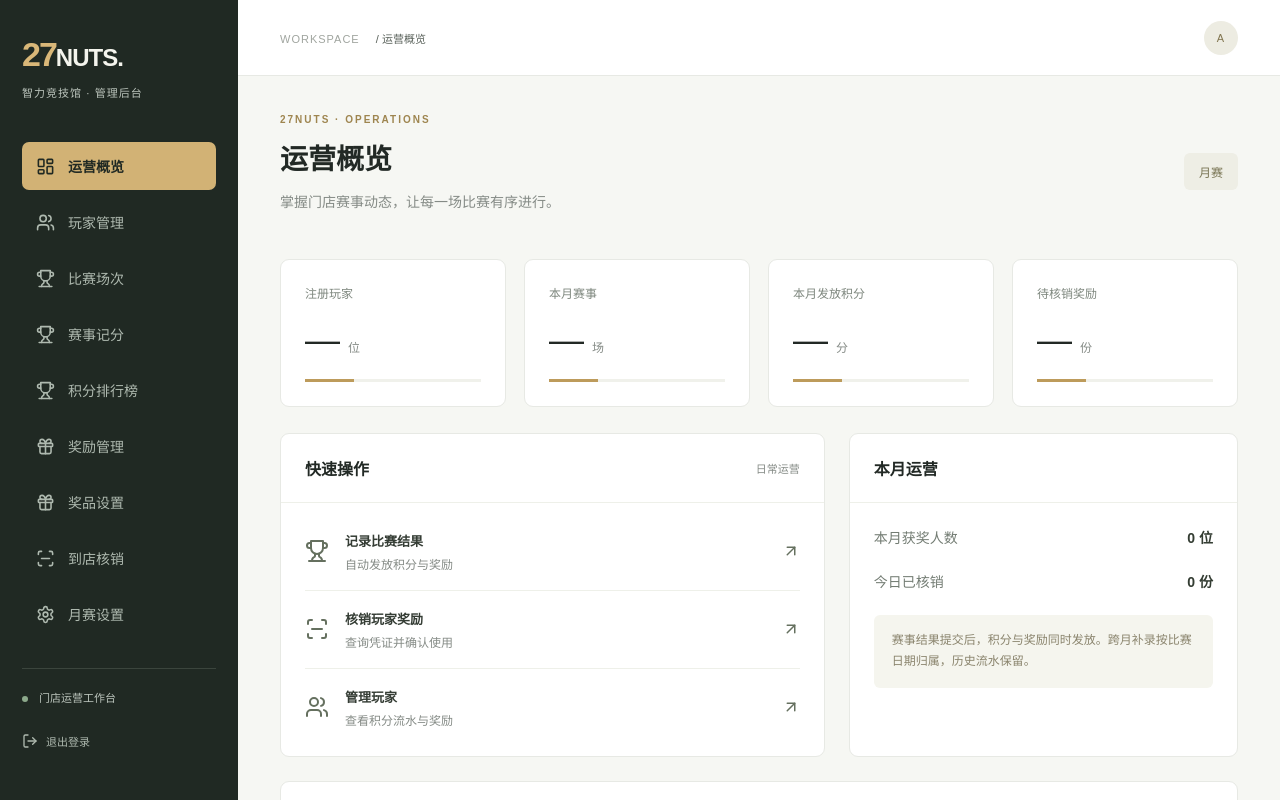
玩家详情给当前玩家发放多份奖励，成功后关闭弹窗且不调整积分
Click the button "玩家管理" at (119,222), box [22,198,216,246]
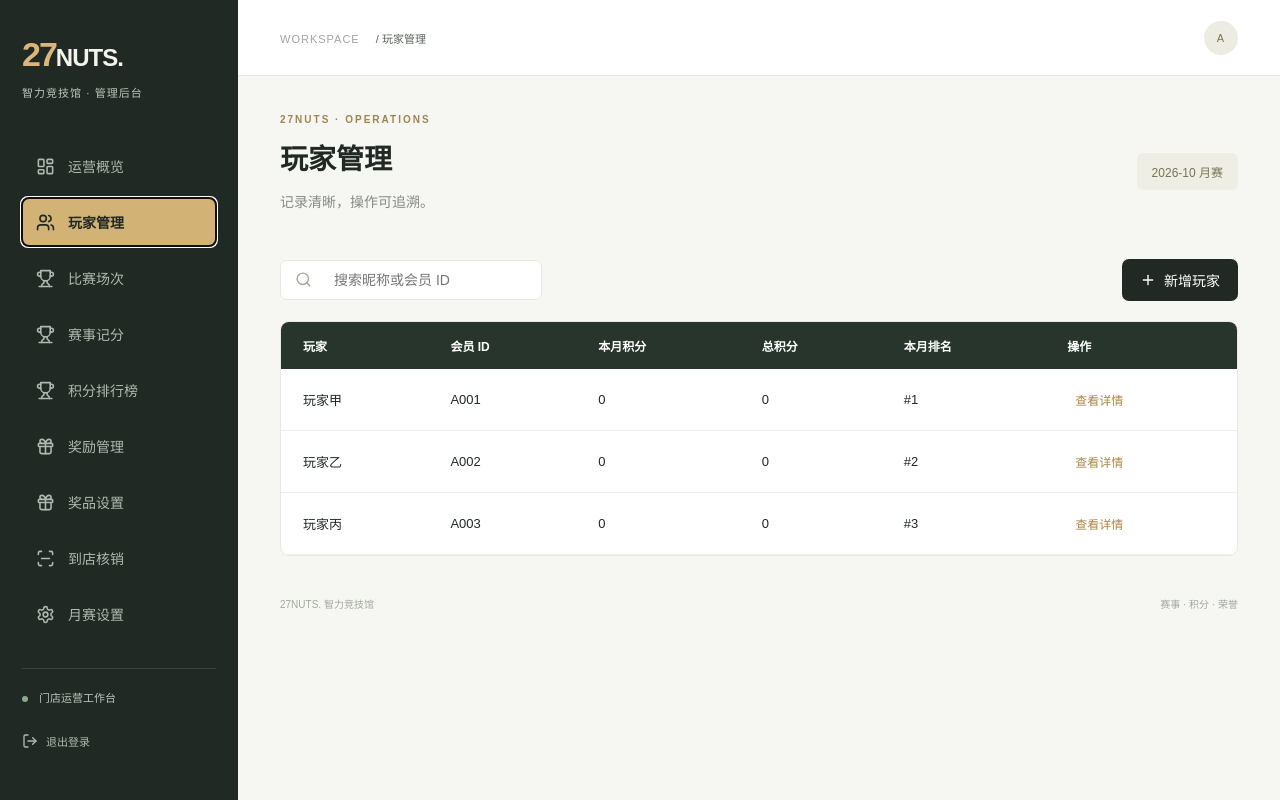
Click the button "查看详情" in the row of "玩家甲" at (1099,399), box [1067,386,1131,413]
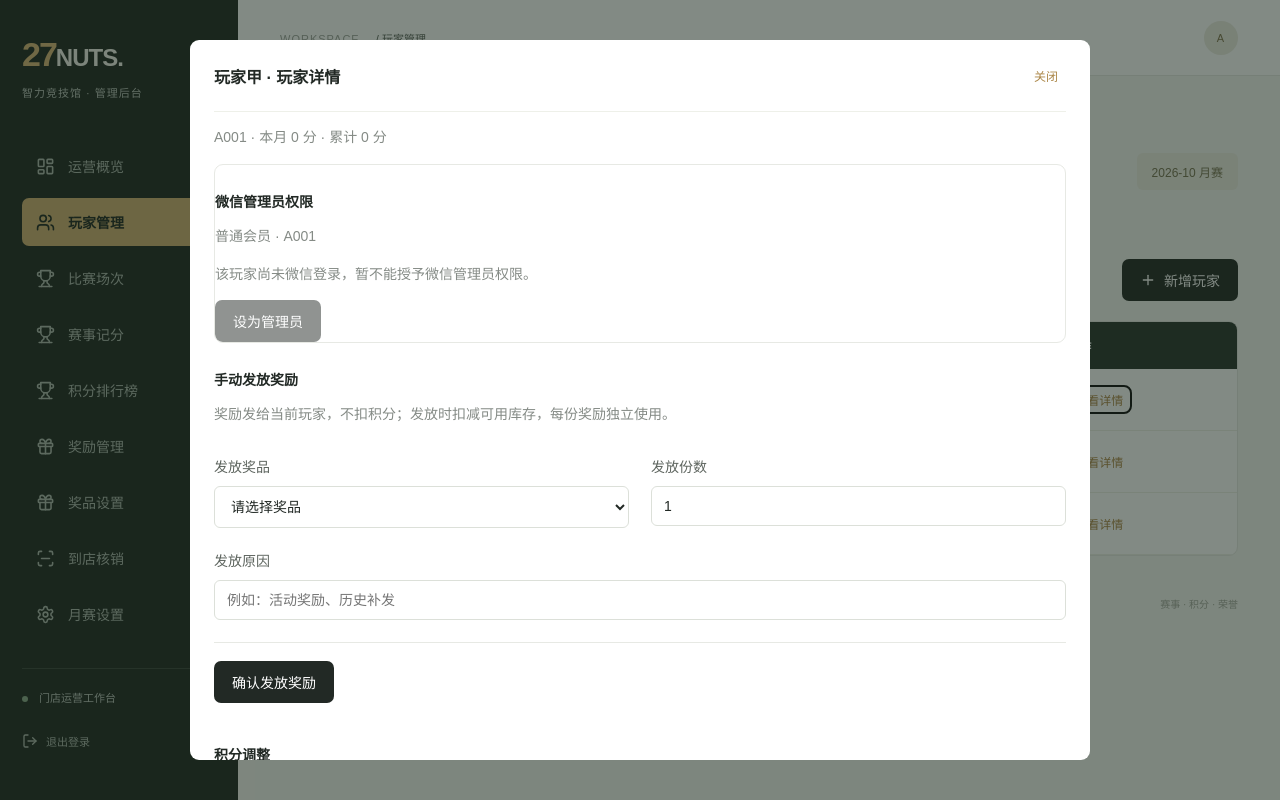
Select "GTO赛事门票" in the dropdown labelled "发放奖品" at (422,507), box [214,486,629,528]
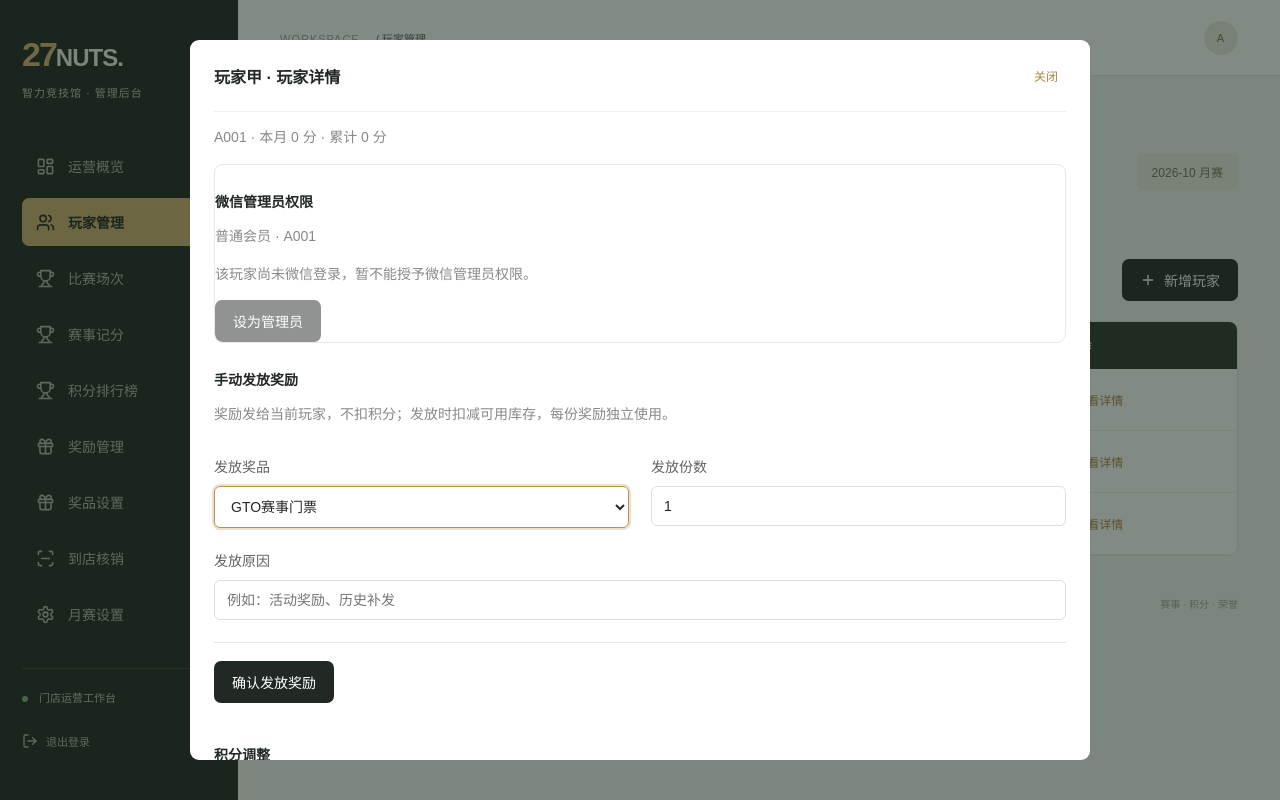
Replace the text in the number field labelled "发放份数" with "2" at (858,506), box [651,486,1066,526]
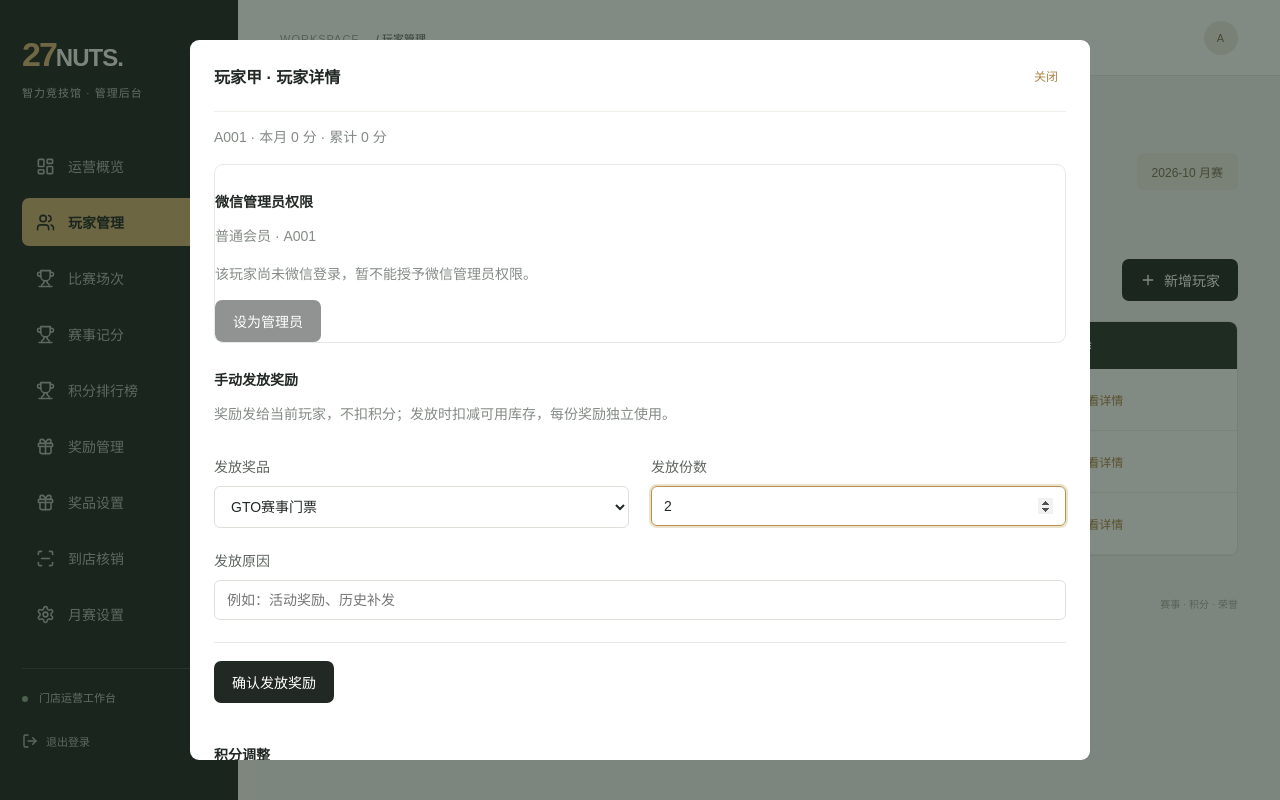
Type " 活动补发 " into the field labelled "发放原因" at (640,600), box [214,580,1066,620]
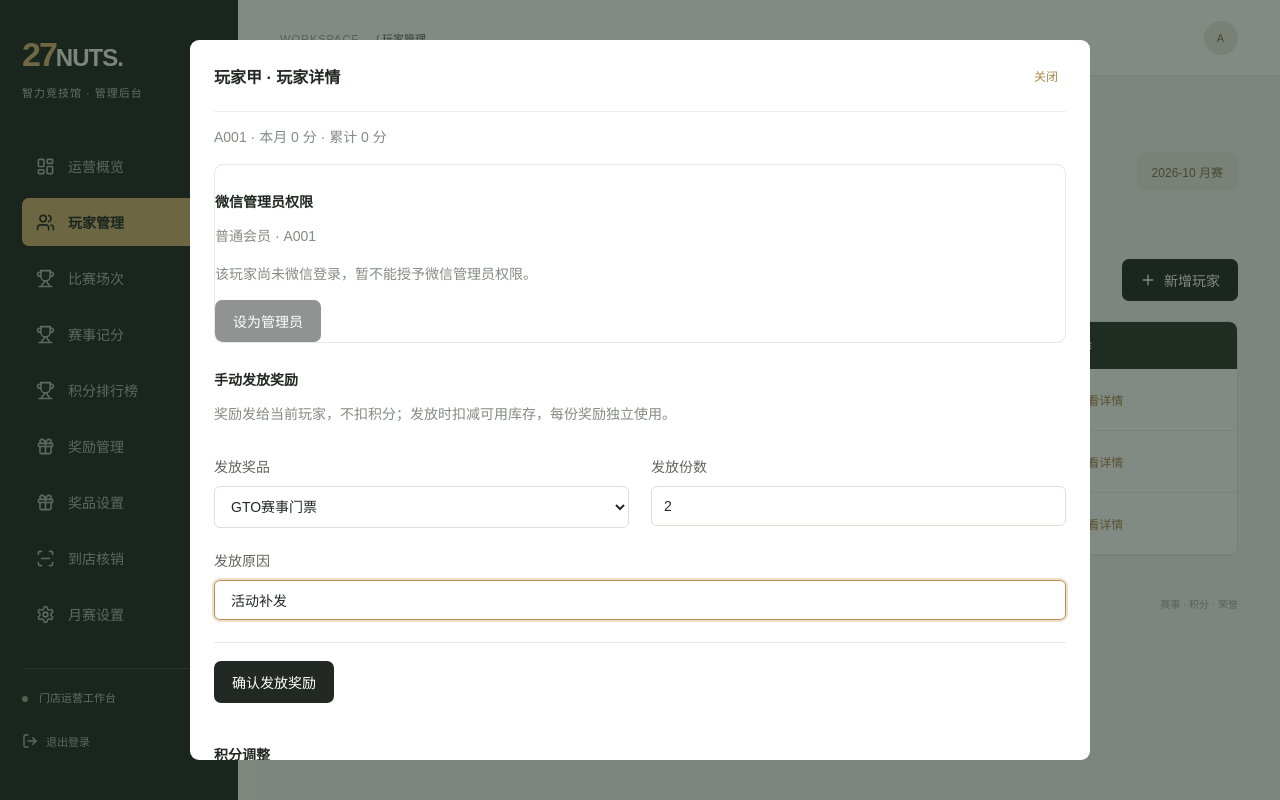
Click the button "确认发放奖励" at (274,682), box [214,661,334,703]
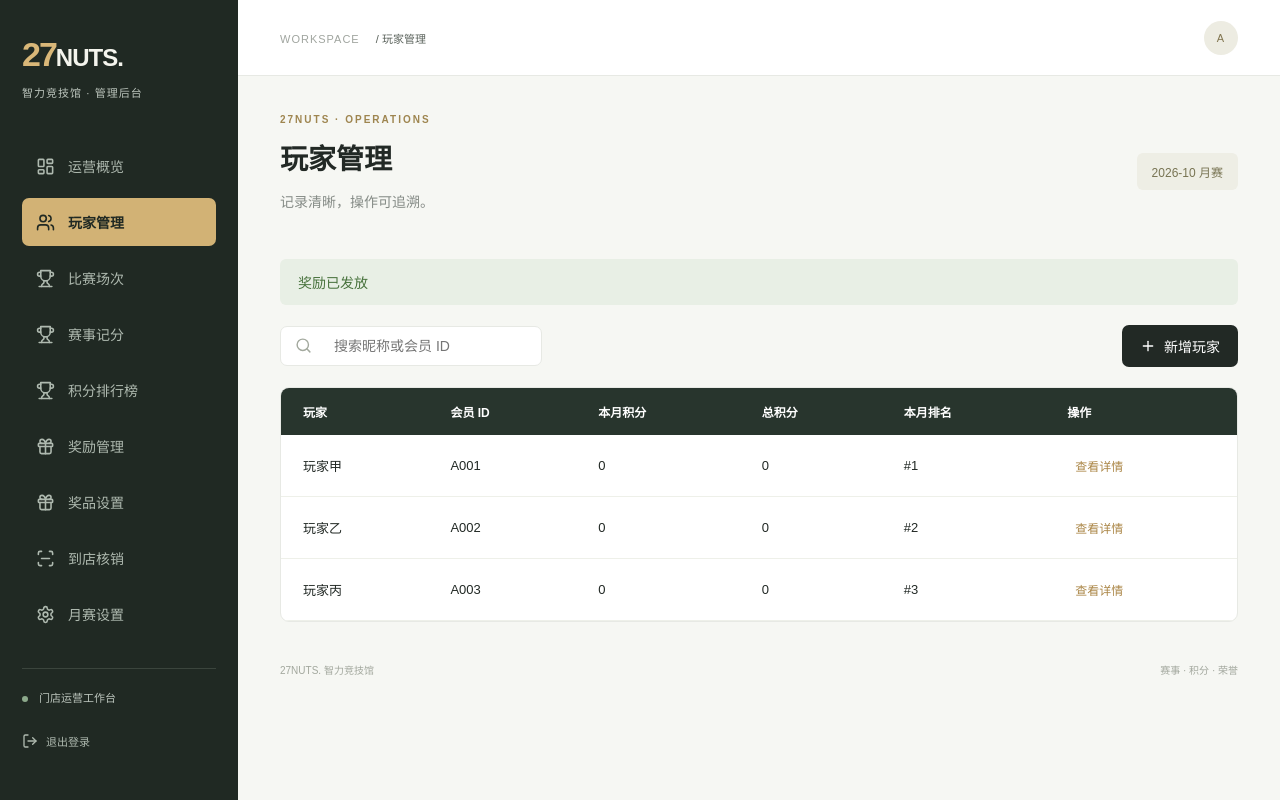
Expected: the text "奖励已发放" is shown, [280,259,1238,305]
Expected: the dialog "玩家详情与积分调整" is gone
